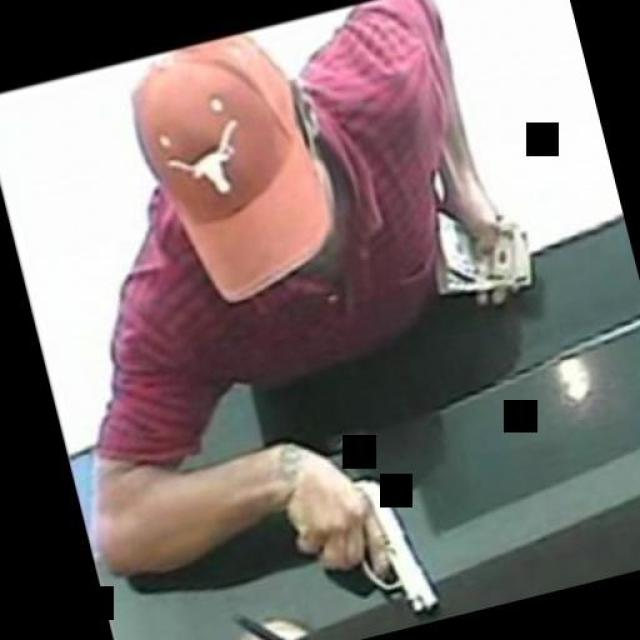gun: (279, 460, 439, 640)
